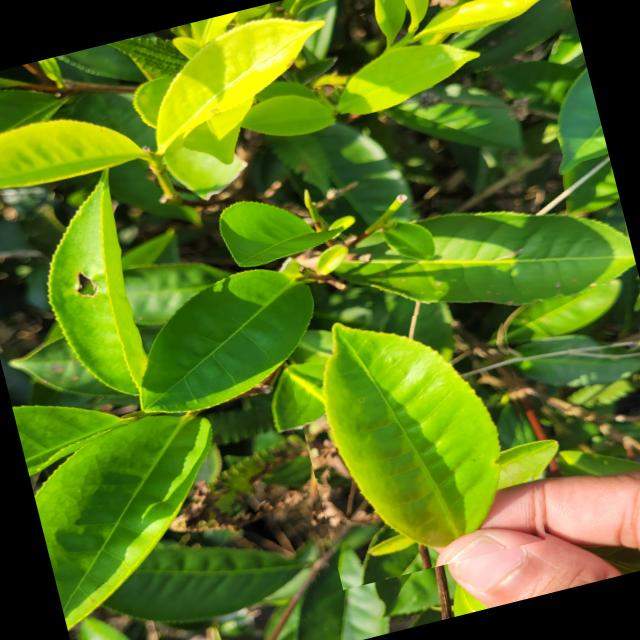Category B(2-4 days): (274, 260, 558, 590)
